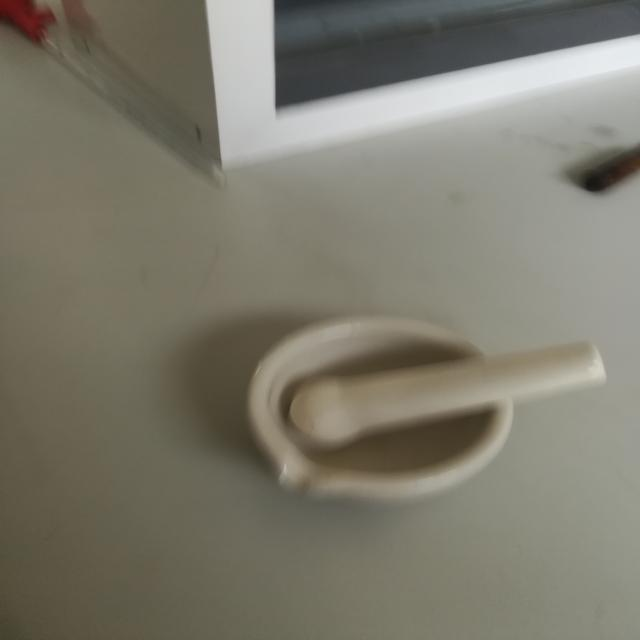Porcelain_Mortar Pestle: (198, 269, 626, 541)
